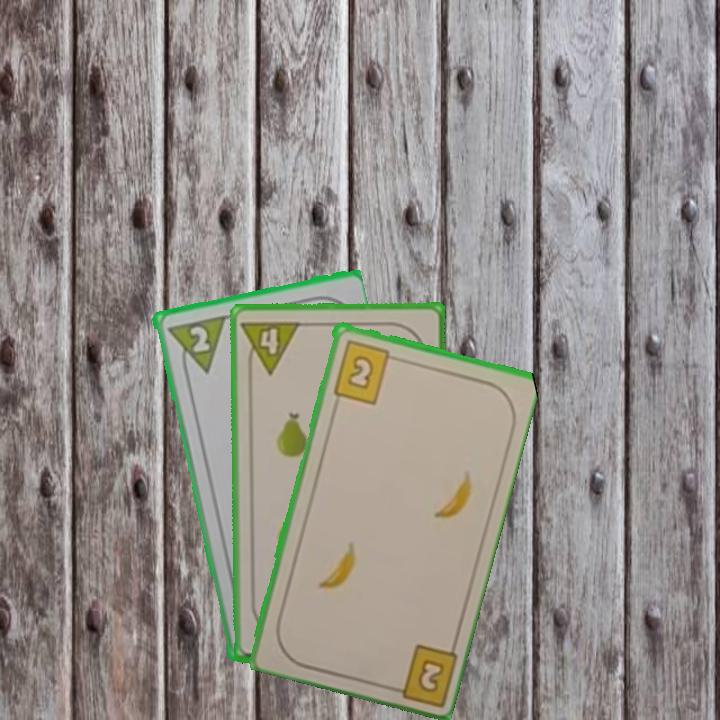2b: (329, 336, 401, 406), (382, 640, 458, 706)
2p: (162, 311, 227, 380)
4p: (238, 316, 303, 377)
